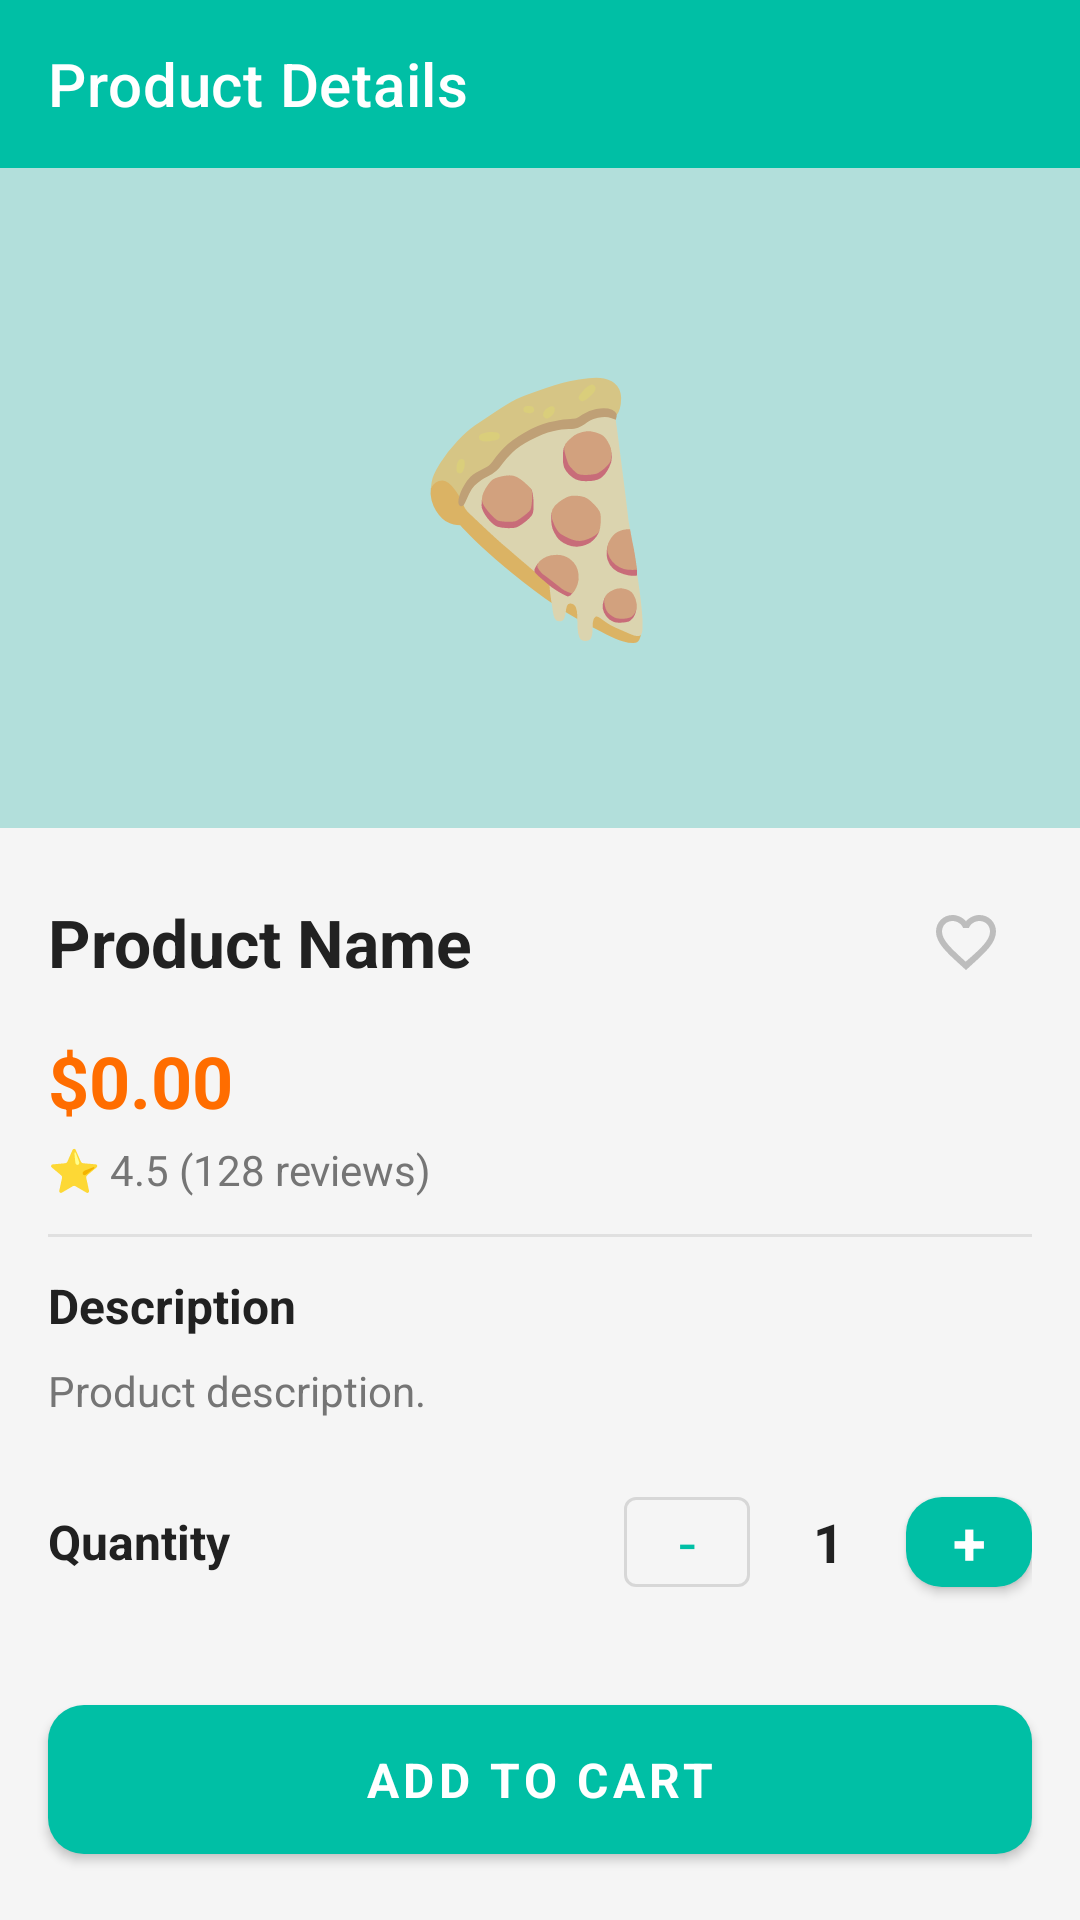

Icons on this 1080px×1920px Android screen, each with its box as box(x1, y1, x2, y2):
Add to favorites: box(936, 915, 996, 970)
